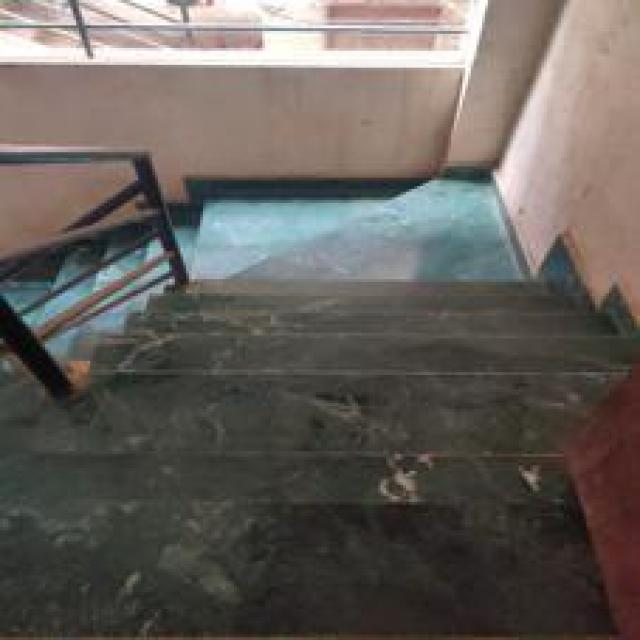downstair: (86, 348, 557, 585)
